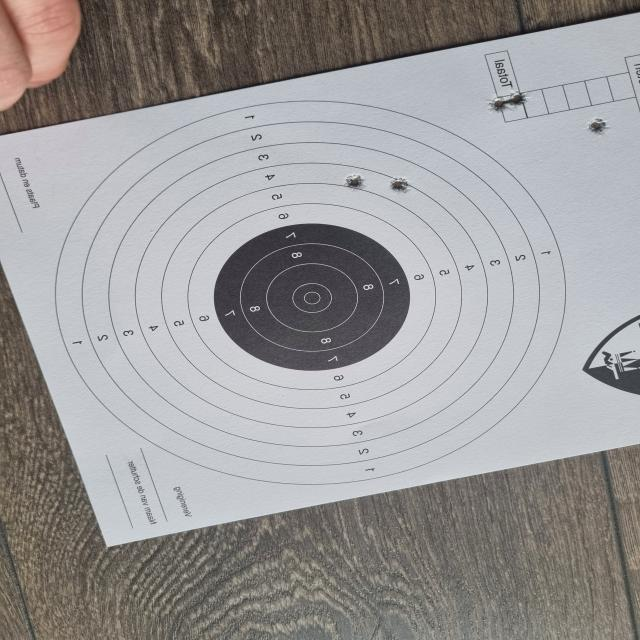0: (584, 118, 610, 134), (486, 97, 509, 113), (507, 92, 530, 106)
4: (389, 178, 412, 194), (344, 174, 366, 188)
Target: (52, 99, 569, 488)
black_contour: (212, 224, 413, 372)
